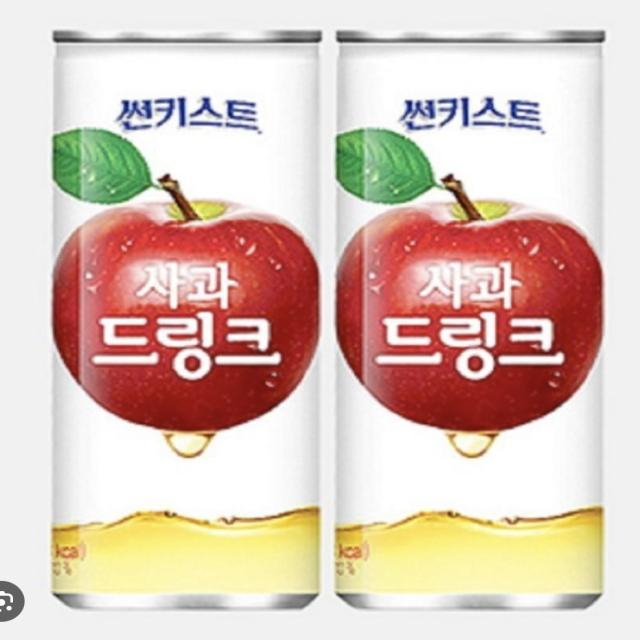recyclable: (319, 12, 632, 623), (30, 14, 343, 622)
